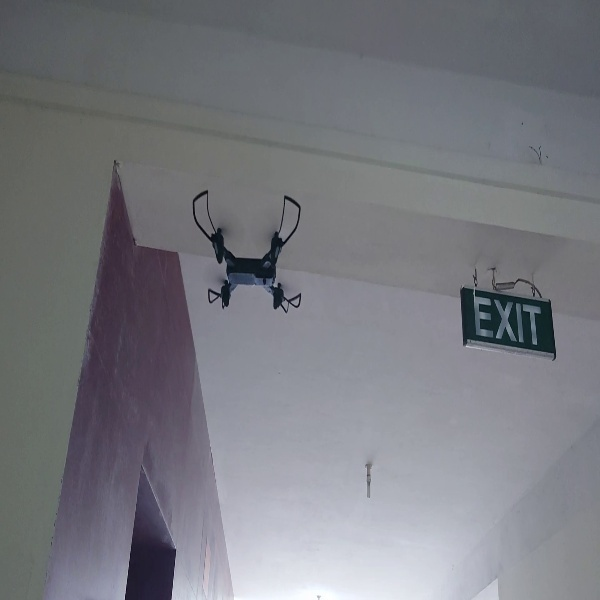drone: (186, 183, 307, 316)
